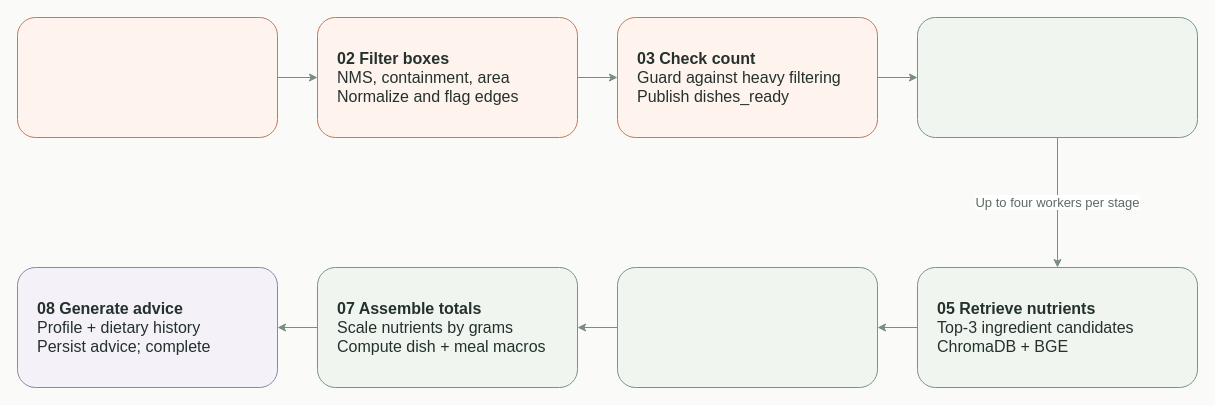
This 1215x405 diagram has some shape labels left out. The centre of each missing label's shape, as x and y in pixels:
"01 Detect dishes Full image; names + boxes Vision model + JSON schema" belongs at point 147,77.
"04 Analyze each dish Full context + marked box Ingredient and gram estimates" belongs at point 1057,77.
"06 Select or estimate Database candidate selection Provenance + confidence" belongs at point 747,327.
